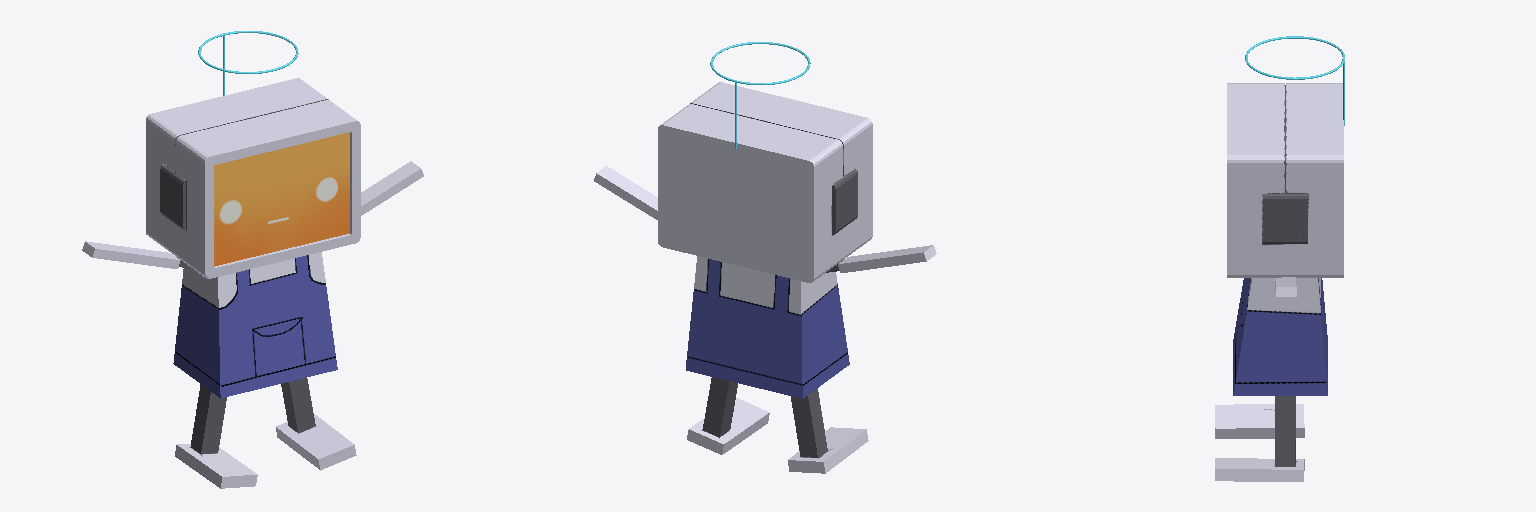
3 views of the same model, side by side, from view 1: azimuth 30°, elevation 25°; view 2: azimuth 150°, elevation 25°; view 3: azimuth 270°, elevation 25° (orthographic).
Visible parts, largest first — view 1: Cube; view 2: Cube; view 3: Cube.
Part boxes in pixels (left/top/right/bottom): Cube: left=82, top=31, right=423, bottom=488; Cube: left=594, top=42, right=936, bottom=473; Cube: left=1215, top=36, right=1344, bottom=481.
Bounding box in the file's own units: 5.7 × 6.51 × 1.94.
1 materials, 1 textured.